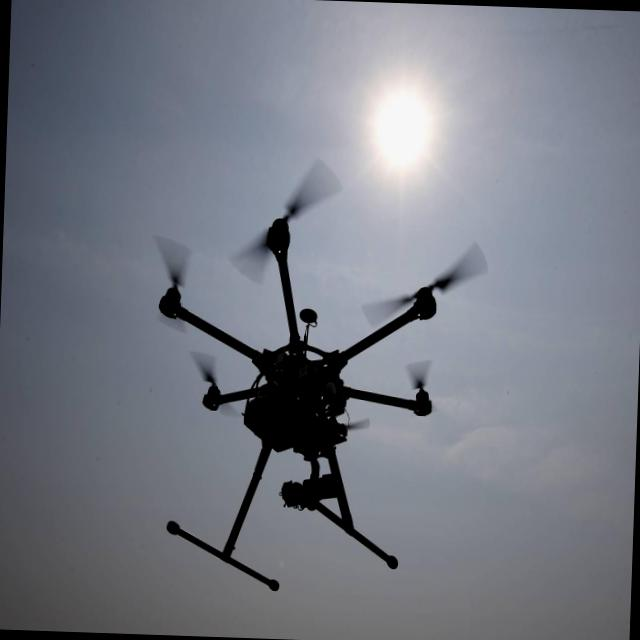drone: (149, 210, 439, 596)
